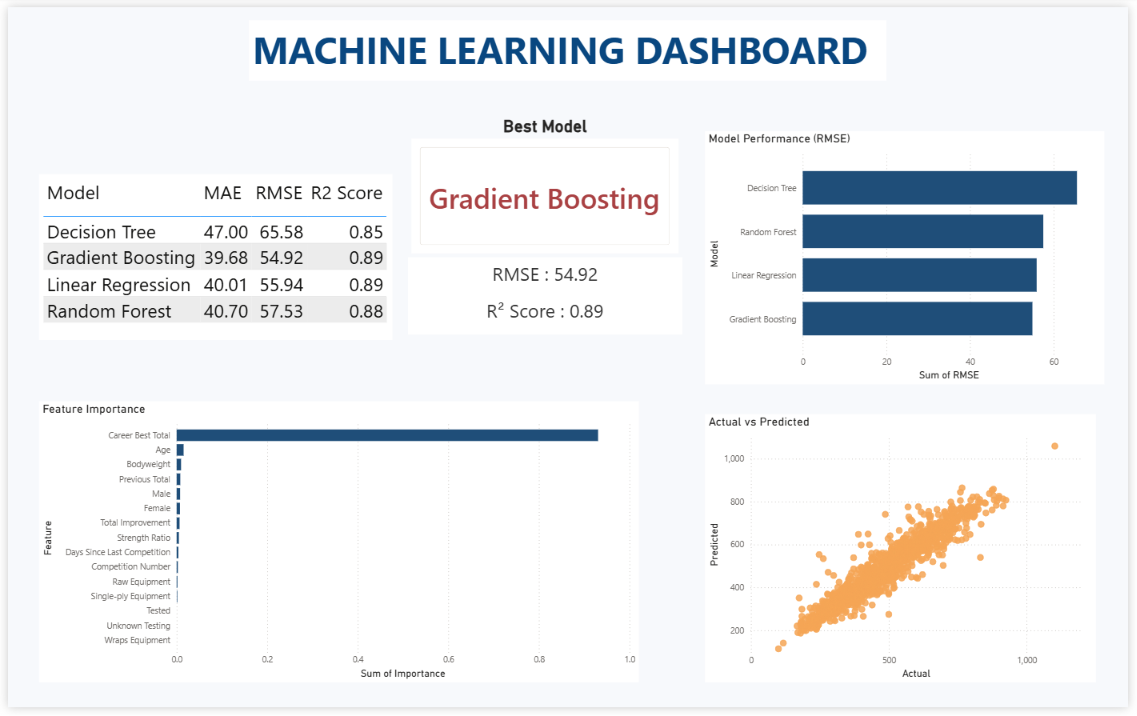

The page's visual inventory and layout, read from the dashboard file:
{"tool":"powerbi","page":{"name":"Machine Learning","canvas":[1600,1000],"ordinal":3},"visuals":[{"type":"tableEx","fields":{"Values":["model_metrics.Model","model_metrics.MAE","model_metrics.RMSE","model_metrics.R2 Score"]},"box":[45,238.3,505,236.7],"z":0},{"type":"cardVisual","title":"Best Model","fields":{"Data":["Min(BestModel.Best Model)"]},"box":[571.7,155,391.7,201.7],"z":1000},{"type":"clusteredBarChart","title":"Model Performance (RMSE)","fields":{"Category":["model_metrics.Model"],"Y":["Sum(model_metrics.RMSE)"]},"box":[995,176.7,570,361.7],"z":2000},{"type":"scatterChart","title":"Actual vs Predicted","fields":{"X":["predictions.Actual"],"Y":["predictions.Predicted"]},"box":[995,581.7,558.3,383.3],"z":3000},{"type":"clusteredBarChart","title":"Feature Importance","fields":{"Category":["feature_importance.Feature"],"Y":["Sum(feature_importance.Importance)"]},"box":[45,563.3,856.7,401.7],"z":4000},{"type":"textbox","box":[345,18.3,910,86.7],"z":5000},{"type":"textbox","box":[571.7,356.7,391.7,110],"z":6000}]}

Visuals, with their boxes in screenshot pixels (x1, y1, x2, y2), scaled from the page's 1600x1000 canvas onto the 1137x716 screenshot:
tableEx - model_metrics.Model x model_metrics.MAE: region(32, 171, 391, 340)
"Best Model" cardVisual: region(406, 111, 685, 255)
"Model Performance (RMSE)" clusteredBarChart: region(707, 127, 1112, 385)
"Actual vs Predicted" scatterChart: region(707, 416, 1104, 691)
"Feature Importance" clusteredBarChart: region(32, 403, 641, 691)
textbox: region(245, 13, 892, 75)
textbox: region(406, 255, 685, 334)
